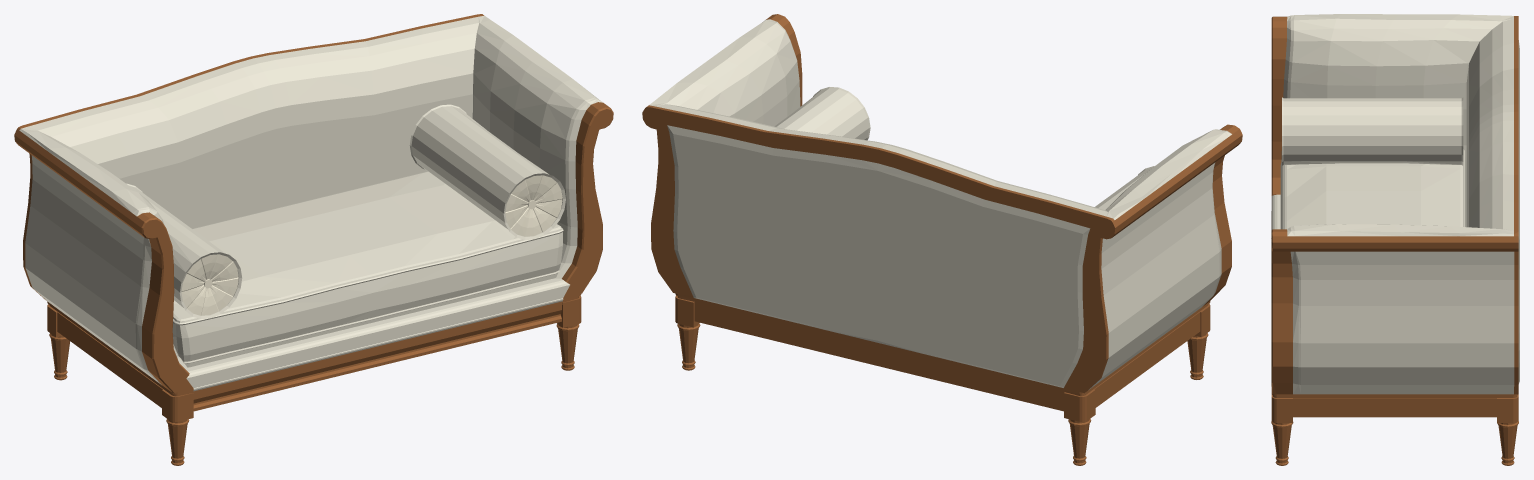
Rendered from Novo 2 seater sofa.glb.
3 renders of one model, left to right at view 1: azimuth 30°, elevation 25°; view 2: azimuth 150°, elevation 25°; view 3: azimuth 270°, elevation 25°, orthographic. The views are drawn at different scales.
Parts seen in each view (by area): view 1: Node; view 2: Node; view 3: Node.
Boxes of the visible parts, x1,y1,x2,y2 form: Node: [14, 14, 613, 465]; Node: [642, 14, 1242, 465]; Node: [1271, 14, 1519, 465].
Size of the model in its own units: 58.57 by 31.97 by 27.69.
